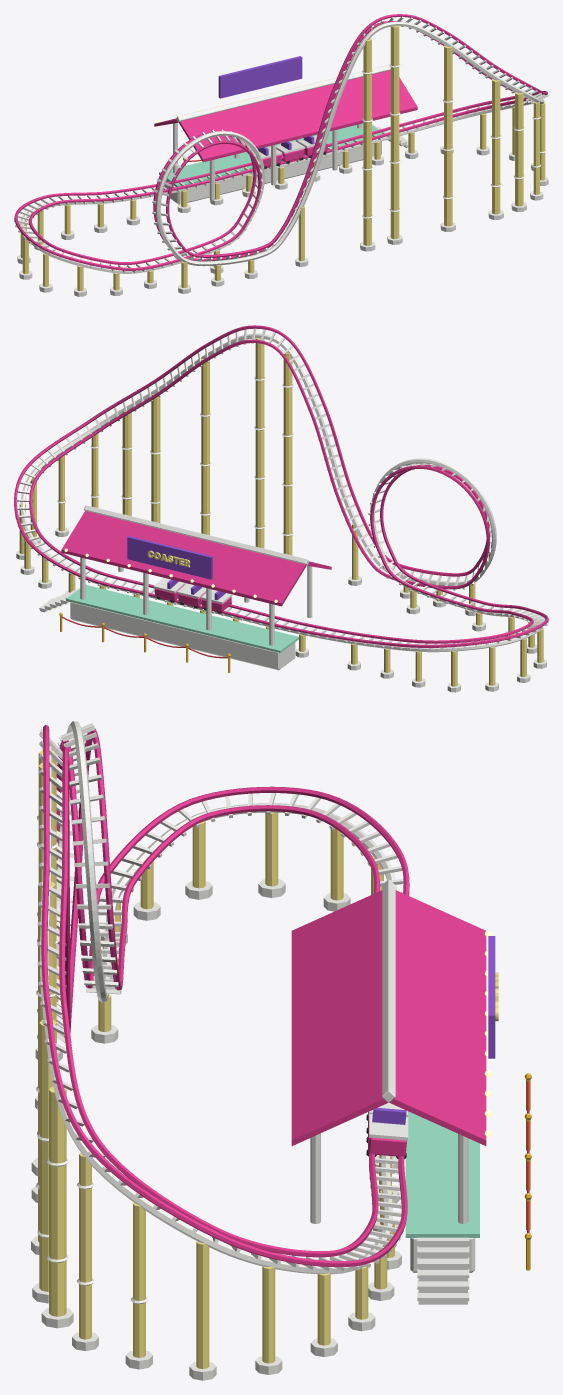
The model's file is RollerCoaster.fbx.
3 renders of one model, top to bottom at view 1: azimuth 30°, elevation 25°; view 2: azimuth 150°, elevation 25°; view 3: azimuth 270°, elevation 25°, orthographic. The views are drawn at different scales.
Parts seen in each view (by area): view 1: RollerCoaster_HotPink, RollerCoaster, RollerCoaster_Lemon, RollerCoaster_Purple, RollerCoaster_Mint; view 2: RollerCoaster_HotPink, RollerCoaster, RollerCoaster_Lemon, RollerCoaster_Mint, RollerCoaster_Purple; view 3: RollerCoaster_HotPink, RollerCoaster, RollerCoaster_Lemon, RollerCoaster_Mint, RollerCoaster_Purple.
Boxes of the visible parts, box(x1,y1,x2,y2) form: RollerCoaster_HotPink: box(14, 14, 547, 270); RollerCoaster: box(14, 16, 548, 296); RollerCoaster_Lemon: box(20, 25, 545, 290); RollerCoaster_Purple: box(218, 56, 314, 155); RollerCoaster_Mint: box(159, 123, 382, 186); RollerCoaster_HotPink: box(14, 325, 548, 647); RollerCoaster: box(15, 328, 548, 692); RollerCoaster_Lemon: box(19, 338, 543, 686); RollerCoaster_Mint: box(66, 585, 299, 652); RollerCoaster_Purple: box(127, 536, 225, 600); RollerCoaster_HotPink: box(41, 725, 486, 1266); RollerCoaster: box(31, 721, 475, 1380); RollerCoaster_Lemon: box(38, 750, 498, 1368); RollerCoaster_Mint: box(405, 1111, 479, 1237); RollerCoaster_Purple: box(372, 936, 495, 1124).
Size of the model in its own units: 99.7 by 42.68 by 42.44.
